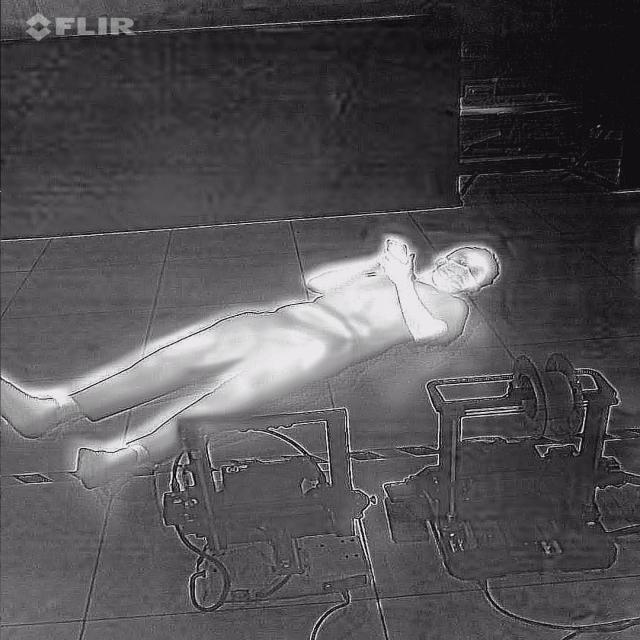Victim: (0, 230, 504, 508)
